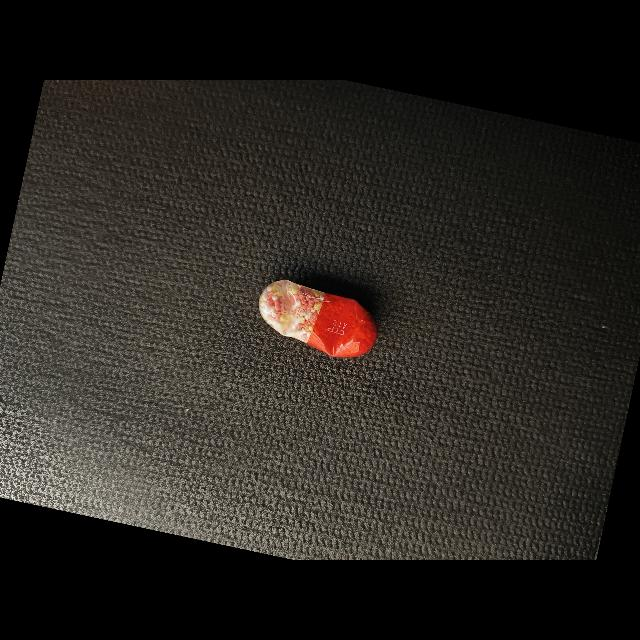Defective Capsule: (259, 279, 377, 357)
